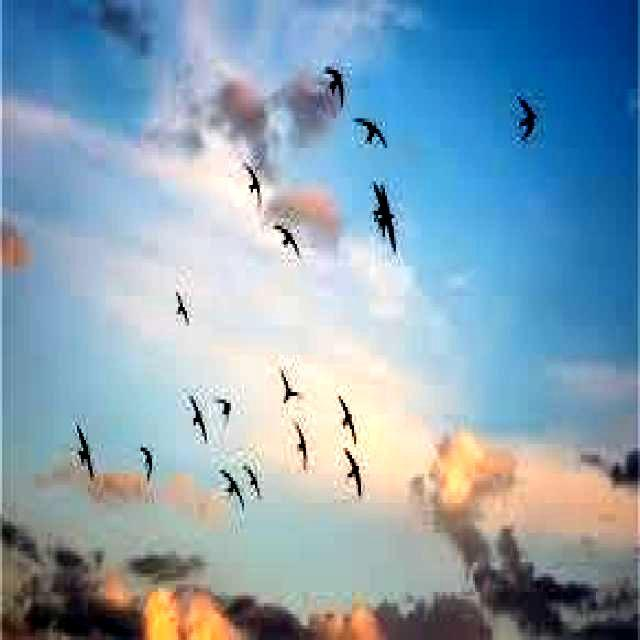bird: (364, 174, 418, 269), (205, 389, 243, 440), (238, 454, 274, 505), (340, 441, 370, 501), (74, 414, 97, 481), (351, 114, 389, 154), (271, 216, 303, 262), (182, 389, 206, 447), (323, 60, 348, 112), (240, 156, 263, 209), (219, 463, 246, 508), (271, 368, 298, 409), (517, 93, 537, 145), (338, 389, 360, 435), (136, 442, 158, 484), (293, 420, 311, 470), (172, 284, 190, 328)
